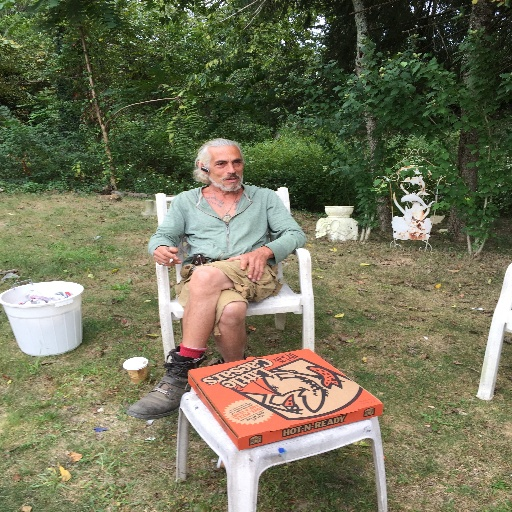hand: (226, 244, 281, 284), (150, 245, 184, 266)
